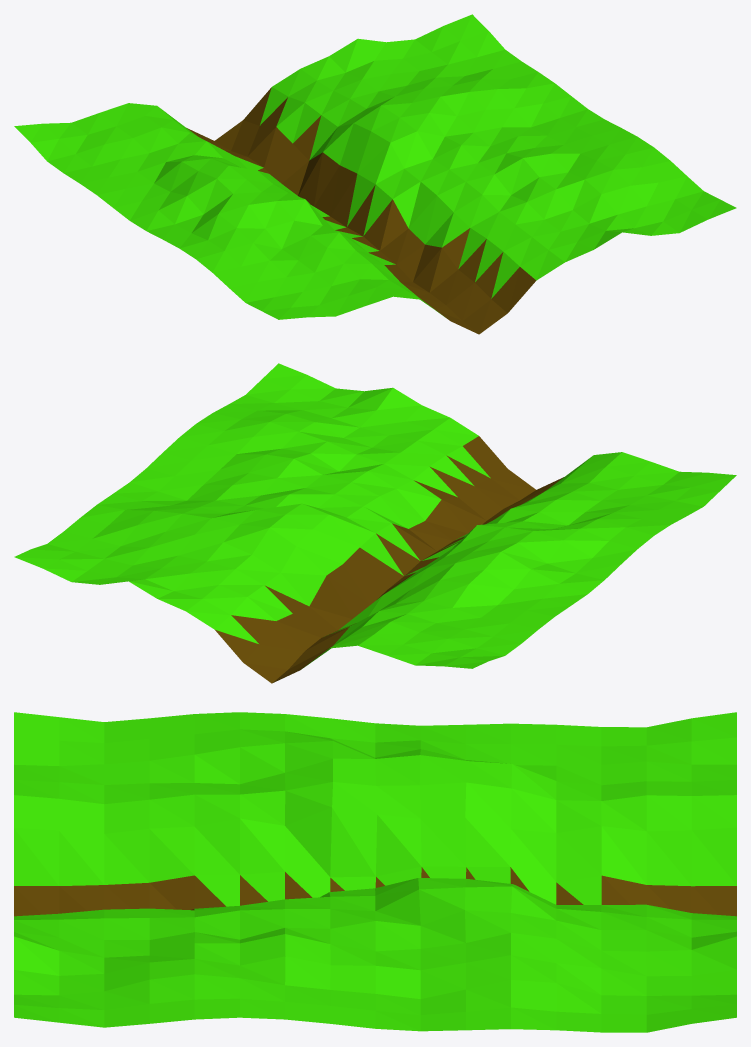
The model's file is oja_left_1.fbx.
3 views of the same model, one above another, from view 1: azimuth 30°, elevation 25°; view 2: azimuth 150°, elevation 25°; view 3: azimuth 270°, elevation 25° (orthographic). The views are drawn at different scales.
Parts seen in each view (by area): view 1: oja_L_1; view 2: oja_L_1; view 3: oja_L_1.
Part boxes in pixels (bbox=[...]): oja_L_1: bbox=[14, 14, 736, 334]; oja_L_1: bbox=[14, 363, 736, 683]; oja_L_1: bbox=[14, 712, 736, 1032].
Bounding box in the file's own units: 2000 × 313 × 2000.
